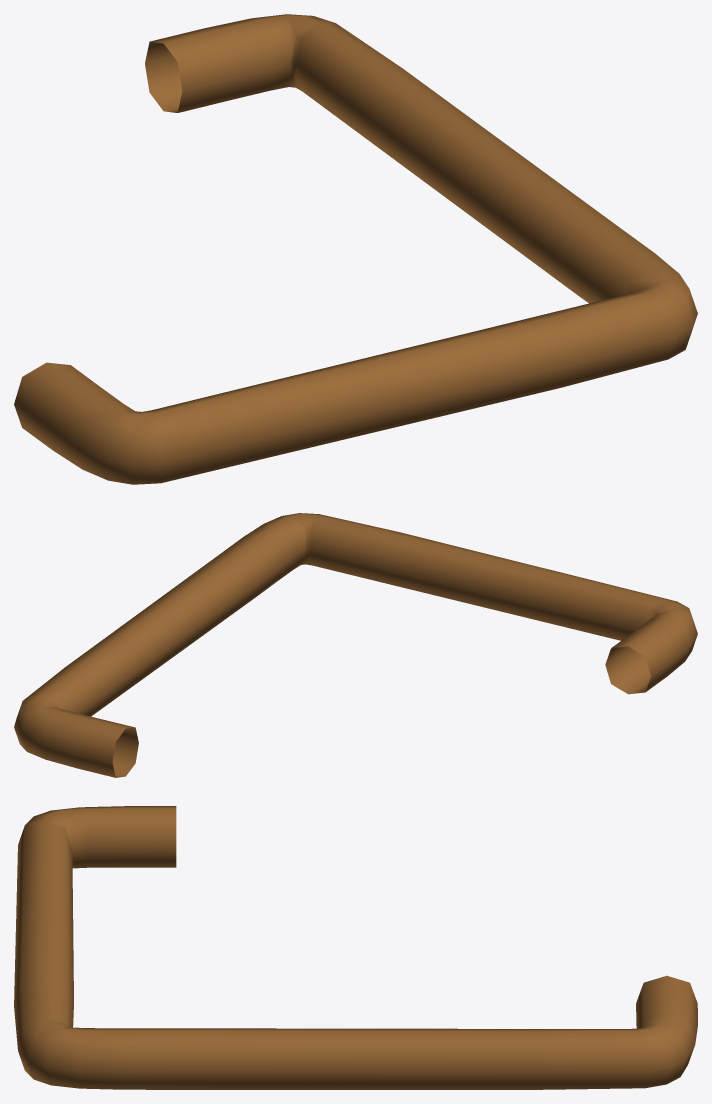
Rendered from Pipe_Corner.glb.
3 views of the same model, one above another, from view 1: azimuth 30°, elevation 25°; view 2: azimuth 150°, elevation 25°; view 3: azimuth 270°, elevation 25° (orthographic). The views are drawn at different scales.
Visible parts, largest first — view 1: Pipe_Corner; view 2: Pipe_Corner; view 3: Pipe_Corner.
Boxes of the visible parts, x1=… form: Pipe_Corner: x1=14, y1=14, x2=697, y2=484; Pipe_Corner: x1=14, y1=513, x2=697, y2=777; Pipe_Corner: x1=14, y1=806, x2=697, y2=1089.
Size of the model in its own units: 2 by 0.2122 by 2.33.
